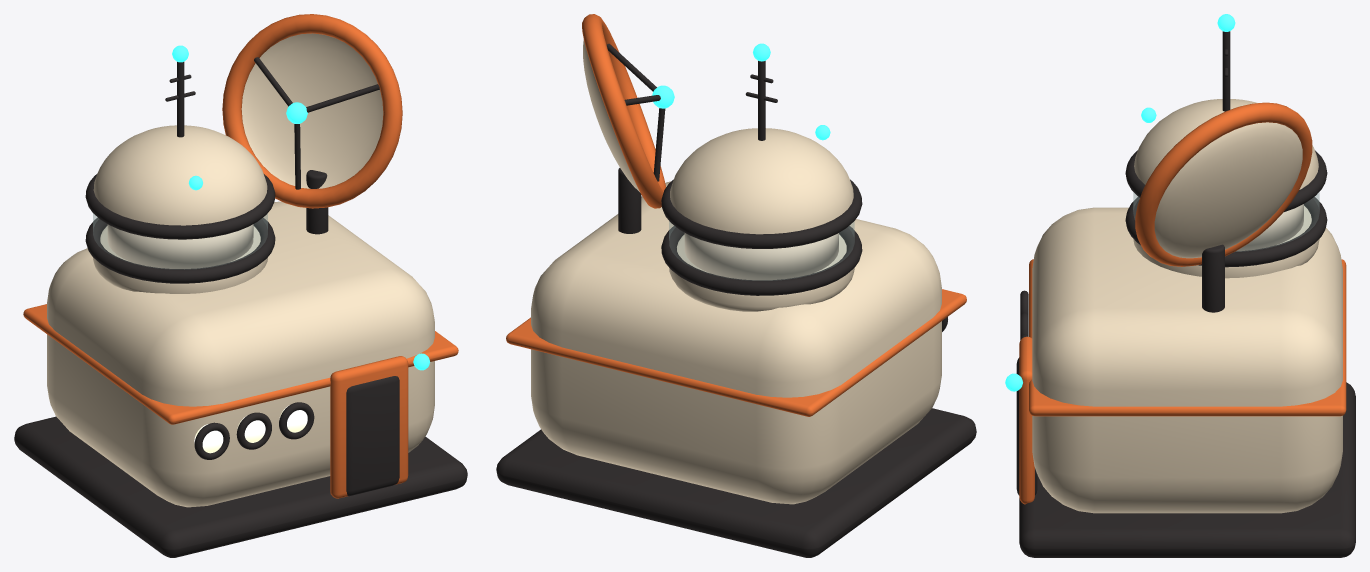
File: research-old.glb
3 views of the same model, side by side, from view 1: azimuth 30°, elevation 25°; view 2: azimuth 150°, elevation 25°; view 3: azimuth 270°, elevation 25° (orthographic). The views are drawn at different scales.
Parts seen in each view (by area): view 1: Cube.001, Cube, Sphere.004, Sphere.001, Torus.005, Cube.004, Cylinder.005, Cube.003, Cube.002, Cylinder.004, Torus.003, Torus.004 (+6 smaller); view 2: Cube.001, Cube, Sphere.001, Torus.005, Cylinder.005, Cube.002, Cylinder.004, Torus.003, Torus.004, Cylinder.003, Sphere.004, Cylinder.007 (+1 smaller); view 3: Cube.001, Cube, Sphere.004, Torus.005, Cube.002, Sphere.001, Torus.003, Cube.003, Cylinder.005, Cylinder.003, Cylinder.007, Cylinder.004 (+3 smaller).
Part boxes in pixels (x1=…): Cube.001: x1=47, y1=201, x2=434, y2=507; Cube: x1=14, y1=416, x2=467, y2=557; Sphere.004: x1=241, y1=33, x2=383, y2=188; Sphere.001: x1=93, y1=125, x2=267, y2=225; Torus.005: x1=222, y1=14, x2=402, y2=208; Cube.004: x1=346, y1=376, x2=399, y2=496; Cylinder.005: x1=93, y1=213, x2=267, y2=269; Cube.003: x1=330, y1=356, x2=408, y2=498; Cube.002: x1=23, y1=304, x2=458, y2=424; Cylinder.004: x1=107, y1=224, x2=253, y2=269; Torus.003: x1=85, y1=217, x2=275, y2=283; Torus.004: x1=85, y1=174, x2=275, y2=239; Cube.001: x1=531, y1=181, x2=941, y2=504; Cube: x1=496, y1=408, x2=976, y2=557; Sphere.001: x1=670, y1=128, x2=853, y2=234; Torus.005: x1=582, y1=14, x2=665, y2=208; Cylinder.005: x1=669, y1=221, x2=854, y2=280; Cube.002: x1=506, y1=289, x2=966, y2=416; Cylinder.004: x1=684, y1=233, x2=838, y2=280; Torus.003: x1=661, y1=226, x2=862, y2=295; Torus.004: x1=661, y1=179, x2=862, y2=248; Cylinder.003: x1=669, y1=234, x2=854, y2=311; Sphere.004: x1=583, y1=39, x2=639, y2=191; Cylinder.007: x1=618, y1=168, x2=641, y2=233; Cube.001: x1=1032, y1=207, x2=1342, y2=513; Cube: x1=1019, y1=382, x2=1355, y2=557; Sphere.004: x1=1154, y1=122, x2=1302, y2=258; Torus.005: x1=1135, y1=102, x2=1312, y2=266; Cube.002: x1=1029, y1=259, x2=1346, y2=416; Sphere.001: x1=1134, y1=99, x2=1318, y2=189; Torus.003: x1=1125, y1=197, x2=1327, y2=267; Cube.003: x1=1019, y1=336, x2=1034, y2=504; Cylinder.005: x1=1133, y1=192, x2=1319, y2=251; Cylinder.003: x1=1133, y1=206, x2=1319, y2=278; Cylinder.007: x1=1202, y1=244, x2=1224, y2=312; Cylinder.004: x1=1236, y1=204, x2=1303, y2=251.
Size of the model in its own units: 1.45 by 1.9 by 1.36.
